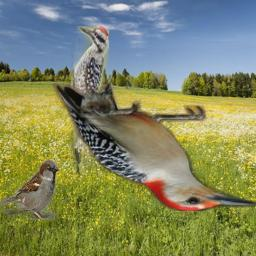Sparrow: (0, 160, 59, 220)
Woodpecker: (53, 83, 256, 211), (71, 26, 109, 175)
